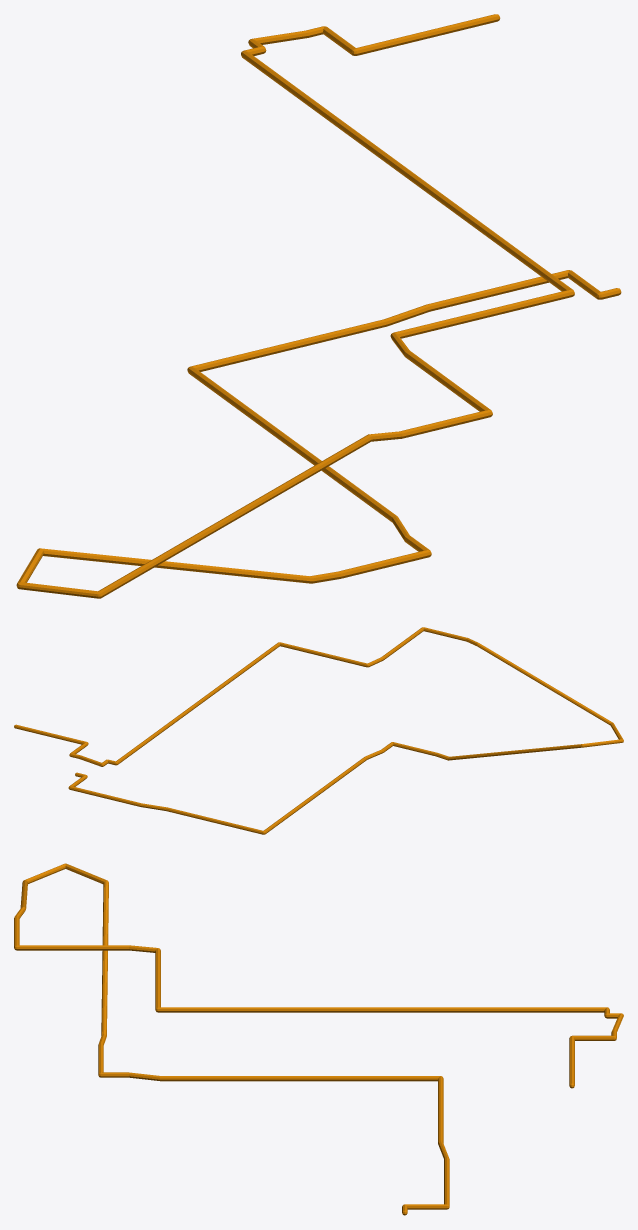
3 views of the same model, one above another, from view 1: azimuth 30°, elevation 25°; view 2: azimuth 150°, elevation 25°; view 3: azimuth 270°, elevation 25° (orthographic). The views are drawn at different scales.
Bounding box in the file's own units: 2409 × 520 × 2174.
